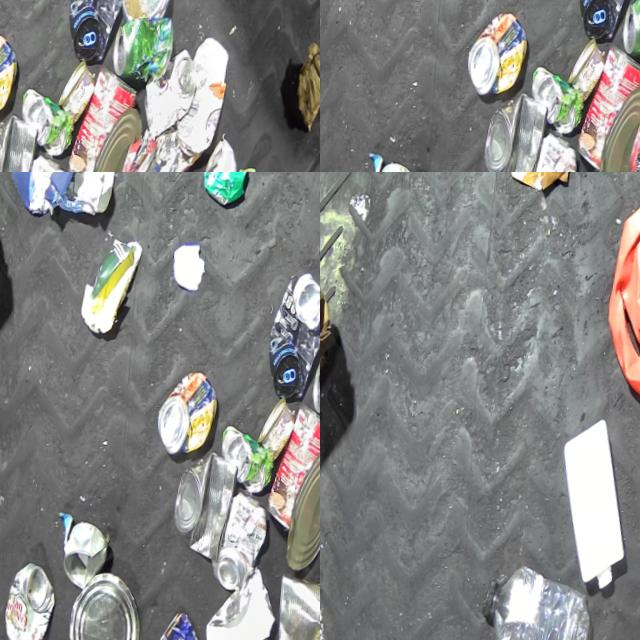can: (178, 450, 249, 565), (72, 66, 148, 172), (582, 44, 640, 172), (269, 272, 320, 400), (272, 403, 320, 531), (219, 491, 279, 591), (74, 567, 155, 640), (487, 91, 558, 172), (472, 11, 536, 96), (162, 370, 226, 455), (146, 49, 205, 140), (9, 560, 68, 640), (115, 16, 180, 83), (25, 86, 83, 158), (535, 64, 593, 136), (225, 423, 283, 495), (69, 0, 134, 63), (92, 108, 152, 172), (292, 445, 320, 571), (69, 523, 119, 590), (602, 86, 640, 172), (0, 113, 48, 172), (62, 61, 103, 125), (572, 39, 613, 103), (262, 398, 303, 462), (579, 0, 640, 41), (528, 132, 589, 172), (285, 571, 320, 640), (0, 33, 26, 118), (167, 607, 226, 640), (200, 172, 255, 206), (203, 138, 246, 172), (123, 0, 181, 21), (624, 0, 640, 61)
non_white_jug: (598, 189, 640, 421)
plastic_bottle: (476, 546, 612, 640)
